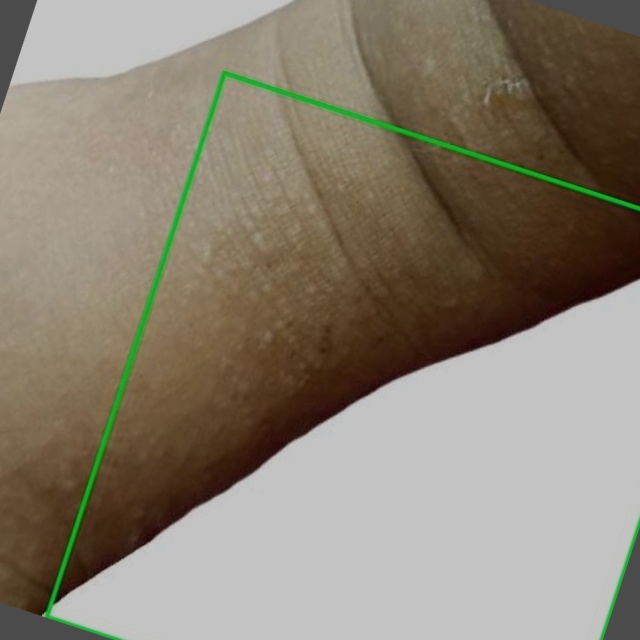Scabies: (46, 72, 639, 639)
